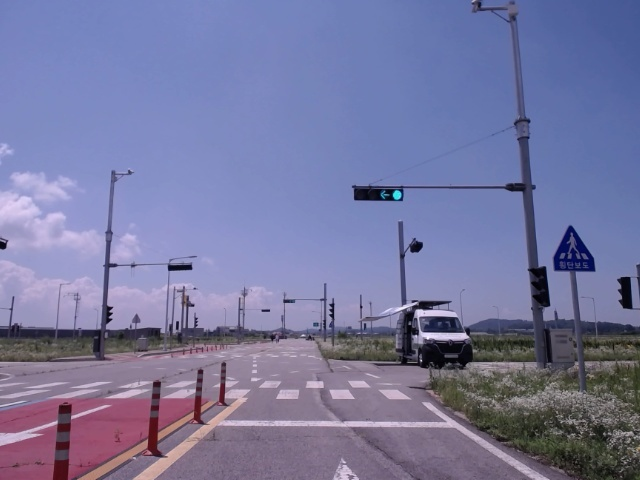all_green_4: (351, 185, 403, 200)
